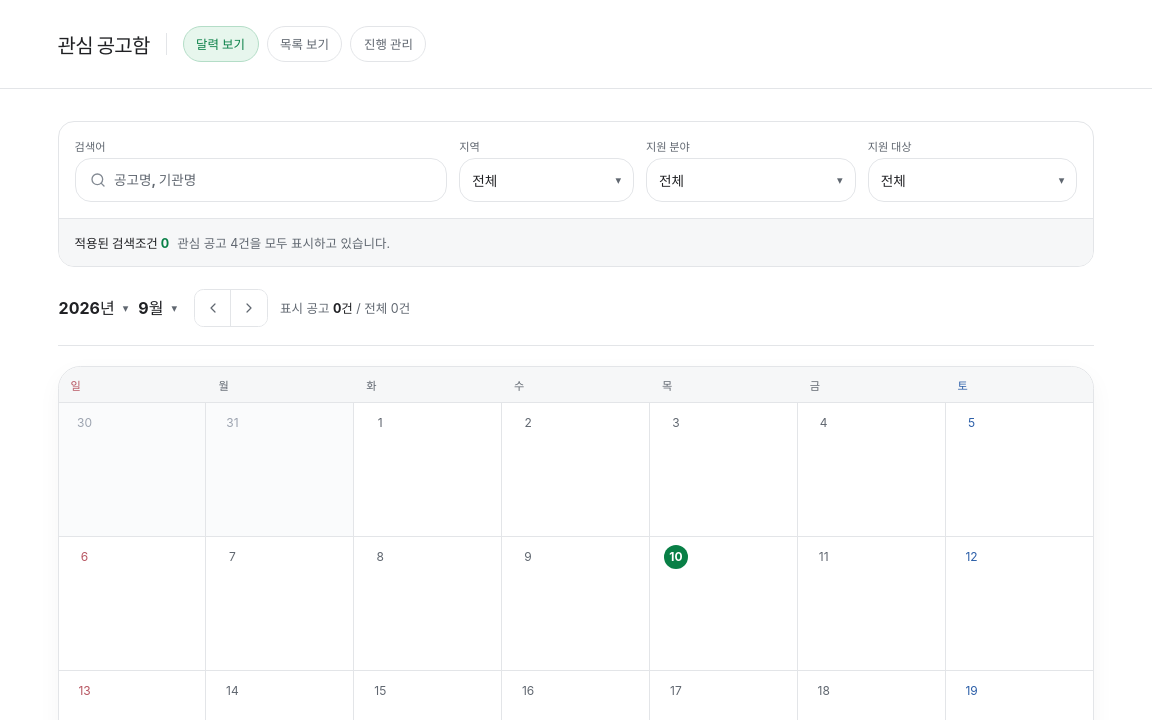
관심 공고 목록은 날짜가 아니라 서버 접수 상태를 표시한다
Click the tab "목록 보기".
click(304, 44)  # box [266,26,342,62]
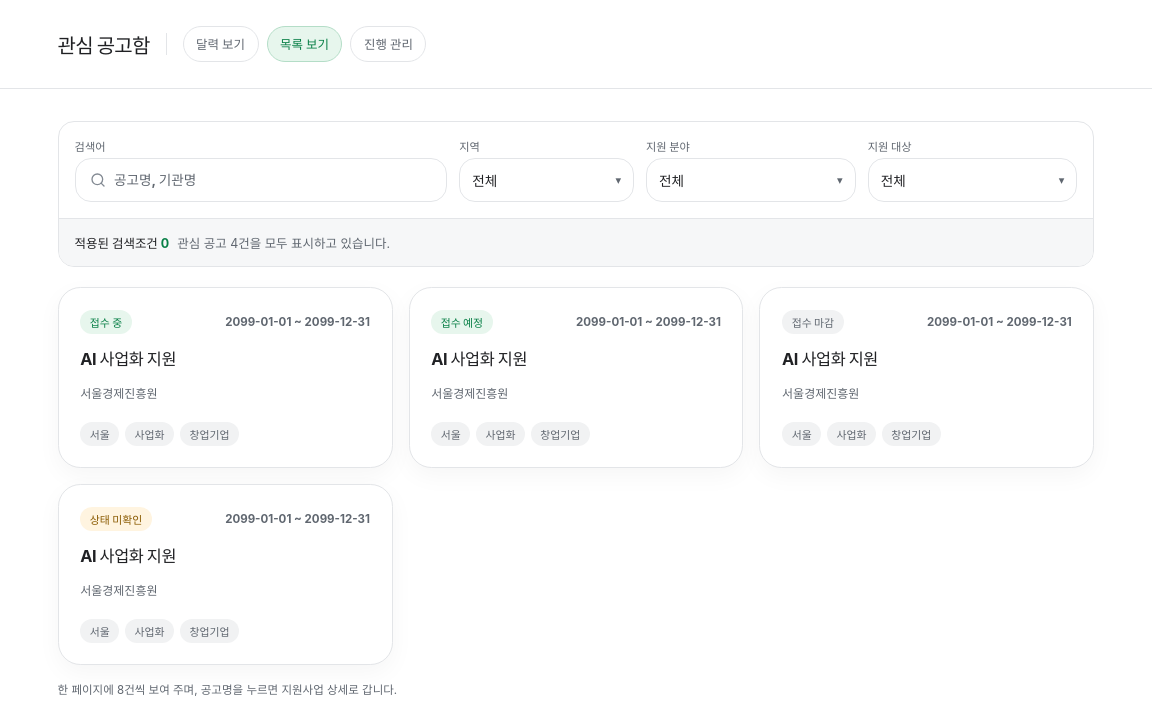
Check: the text "접수 중" is shown, box [80,310,132,334]
Check: the text "접수 예정" is shown, box [431,310,493,334]
Check: the text "접수 마감" is shown, box [782,310,844,334]
